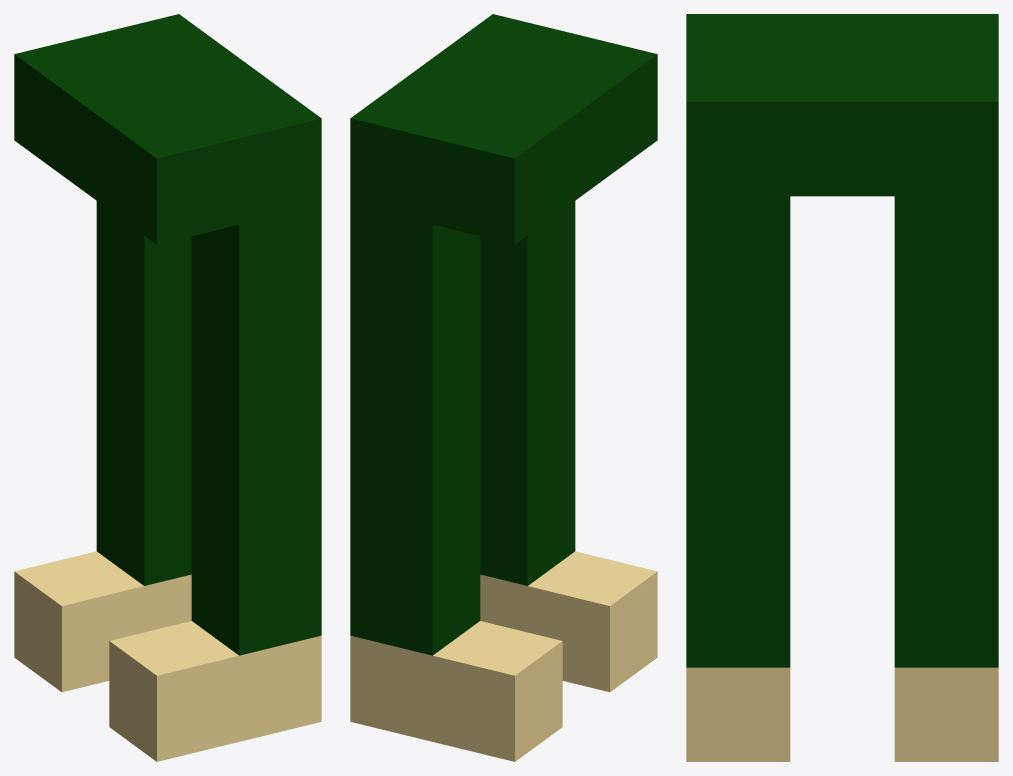
Rendered from woman-10-torso_stand.obj.
3 views of the same model, side by side, from view 1: azimuth 30°, elevation 25°; view 2: azimuth 150°, elevation 25°; view 3: azimuth 270°, elevation 25° (orthographic). The views are drawn at different scales.
Parts seen in each view (by area): view 1: torso_stand; view 2: torso_stand; view 3: torso_stand.
Part boxes in pixels (left/top/right/bottom): torso_stand: left=14, top=14, right=321, bottom=761; torso_stand: left=350, top=14, right=657, bottom=761; torso_stand: left=686, top=14, right=998, bottom=761.
Bounding box in the file's own units: 0.2 × 0.7 × 0.3.
Materials: 1 (1 with a texture image).
